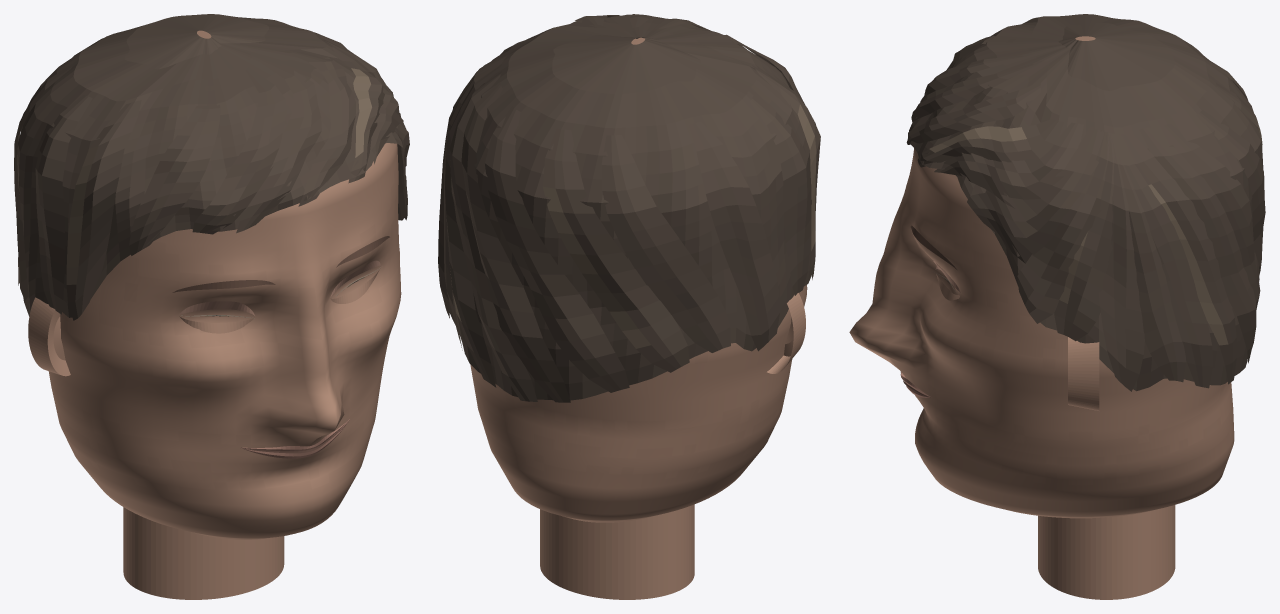
File: nico.glb
3 views of the same model, side by side, from view 1: azimuth 30°, elevation 25°; view 2: azimuth 150°, elevation 25°; view 3: azimuth 270°, elevation 25° (orthographic). The views are drawn at different scales.
Visible parts, largest first — view 1: Viso, Pettinatura, Collo, Ciocca.017, Ciocca.018, Ciocca.019, Ciocca.016, Ciocca.020, Ciocca, Ciocca.001, OrecchioL, Ciocca.015 (+5 smaller); view 2: Pettinatura, Viso, Collo, Ciocca.013, Ciocca.014, Ciocca.012, Ciocca.015, Ciocca.011, Ciocca.010, Ciocca.016, Ciocca.009, Ciocca.017 (+4 smaller); view 3: Viso, Pettinatura, Collo, Ciocca.009, Ciocca.006, Ciocca.003, Ciocca.008, Ciocca.010, Ciocca.007, Ciocca.004, Ciocca.005, Ciocca.002 (+7 smaller).
Part boxes in pixels (x1=…): Viso: x1=48, y1=30, x2=401, y2=539; Pettinatura: x1=18, y1=14, x2=406, y2=317; Collo: x1=123, y1=507, x2=284, y2=599; Ciocca.017: x1=66, y1=100, x2=141, y2=320; Ciocca.018: x1=129, y1=85, x2=220, y2=255; Ciocca.019: x1=192, y1=67, x2=286, y2=234; Ciocca.016: x1=35, y1=95, x2=92, y2=314; Ciocca.020: x1=236, y1=57, x2=321, y2=233; Ciocca: x1=288, y1=52, x2=355, y2=206; Ciocca.001: x1=331, y1=45, x2=384, y2=183; OrecchioL: x1=28, y1=297, x2=70, y2=376; Ciocca.015: x1=14, y1=64, x2=72, y2=316; Pettinatura: x1=448, y1=14, x2=811, y2=400; Viso: x1=470, y1=37, x2=807, y2=522; Collo: x1=540, y1=504, x2=694, y2=599; Ciocca.013: x1=542, y1=128, x2=689, y2=372; Ciocca.014: x1=601, y1=135, x2=730, y2=352; Ciocca.012: x1=485, y1=106, x2=629, y2=392; Ciocca.015: x1=688, y1=121, x2=779, y2=351; Ciocca.011: x1=461, y1=82, x2=570, y2=402; Ciocca.010: x1=449, y1=71, x2=537, y2=401; Ciocca.016: x1=750, y1=96, x2=810, y2=295; Ciocca.009: x1=445, y1=62, x2=502, y2=387; Ciocca.017: x1=752, y1=65, x2=820, y2=279; Viso: x1=849, y1=36, x2=1234, y2=518; Pettinatura: x1=908, y1=14, x2=1263, y2=391; Collo: x1=1038, y1=505, x2=1175, y2=599; Ciocca.009: x1=1119, y1=133, x2=1236, y2=384; Ciocca.006: x1=1099, y1=131, x2=1144, y2=391; Ciocca.003: x1=967, y1=127, x2=1104, y2=263; Ciocca.008: x1=1112, y1=133, x2=1212, y2=388; Ciocca.010: x1=1139, y1=127, x2=1256, y2=363; Ciocca.007: x1=1104, y1=132, x2=1186, y2=382; Ciocca.004: x1=1017, y1=130, x2=1114, y2=323; Ciocca.005: x1=1054, y1=131, x2=1116, y2=341; Ciocca.002: x1=934, y1=122, x2=1083, y2=208.
Bounding box in the file's own units: 0.434 × 0.629 × 0.454.
